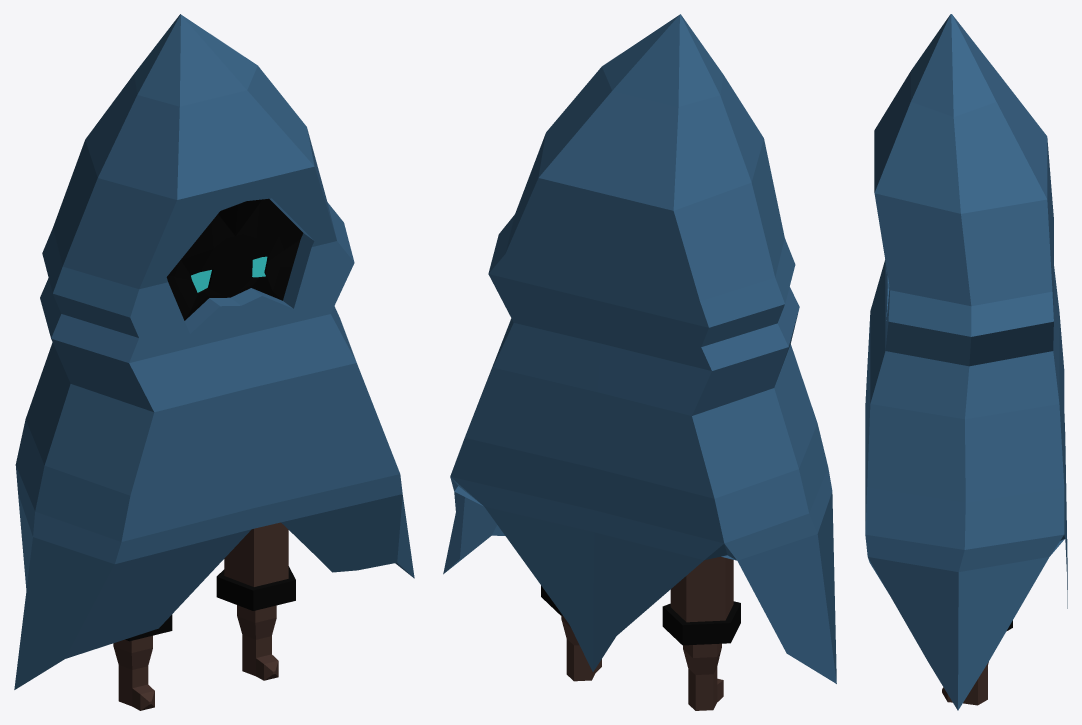
File: Hombre de las pociones 1.fbx
3 views of the same model, side by side, from view 1: azimuth 30°, elevation 25°; view 2: azimuth 150°, elevation 25°; view 3: azimuth 270°, elevation 25° (orthographic). The views are drawn at different scales.
Visible parts, largest first — view 1: Cube.001, Cylinder; view 2: Cube.001, Cylinder; view 3: Cube.001, Cylinder.
Boxes of the visible parts, x1,y1,x2,y2 form: Cube.001: (14, 14, 414, 689); Cylinder: (113, 522, 295, 710); Cube.001: (443, 14, 836, 683); Cylinder: (541, 556, 740, 710); Cube.001: (865, 14, 1067, 710); Cylinder: (942, 620, 1012, 705).
Size of the model in its own units: 139 by 227 by 64.59.
